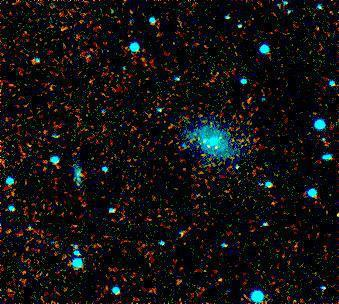star: (207, 268, 237, 298)
